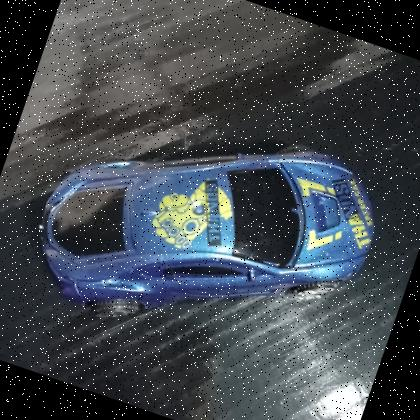Car: (37, 146, 374, 310)
